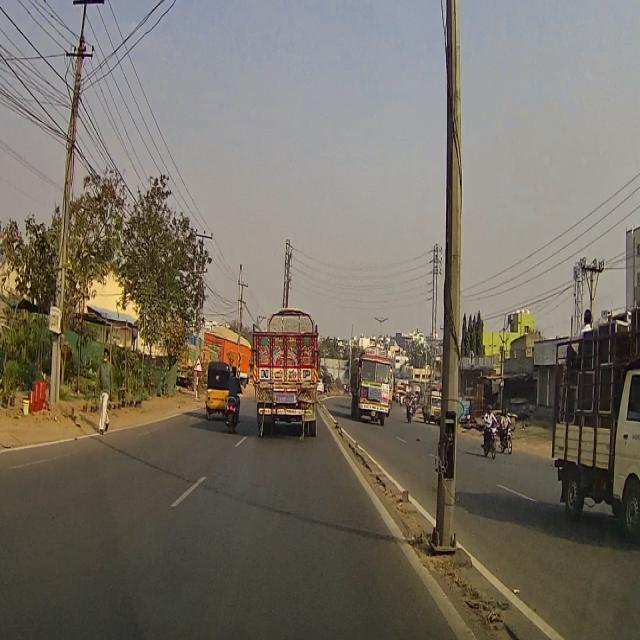right-hand-curve: (193, 354, 203, 375)
